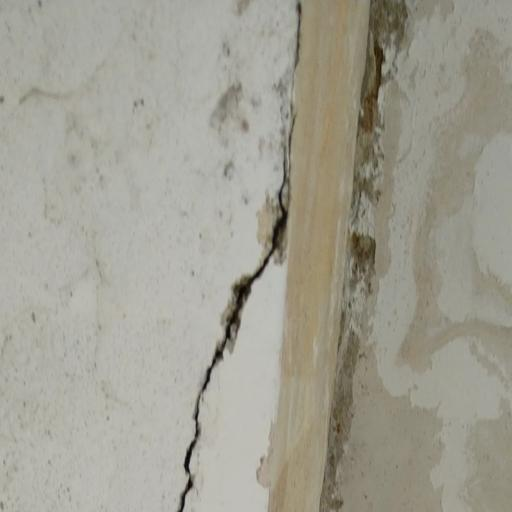major_crack: (175, 0, 301, 512)
